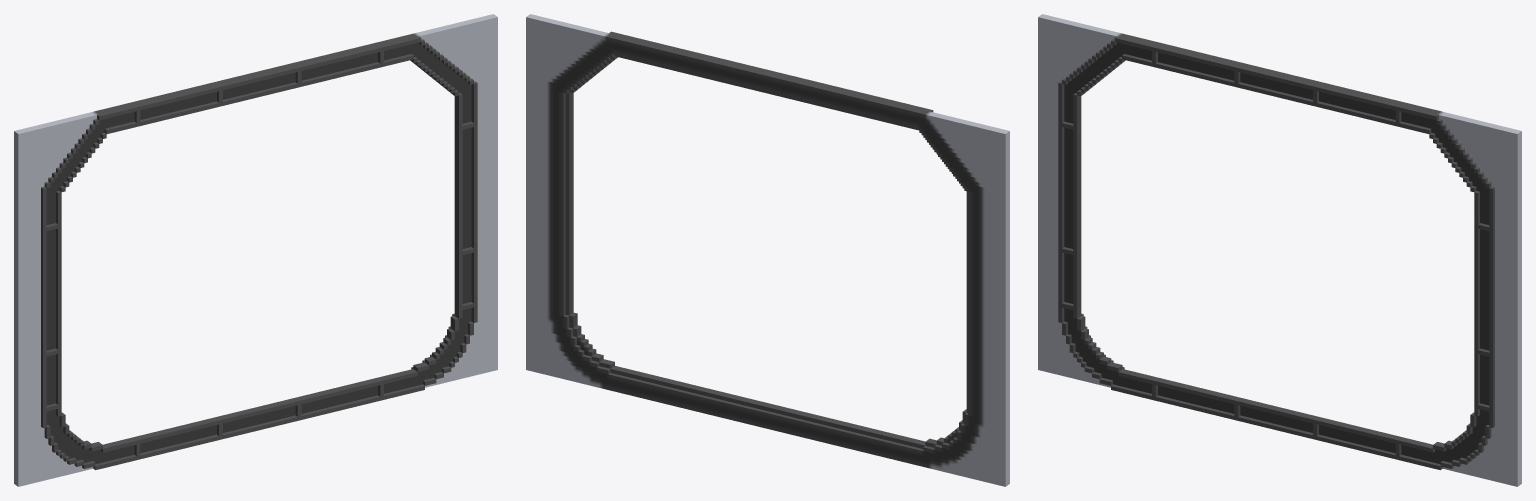
The model's file is DoorFrame_Mixed.obj.
The picture shows the model from 3 angles, left to right: view 1: azimuth 30°, elevation 25°; view 2: azimuth 150°, elevation 25°; view 3: azimuth 330°, elevation 25°; orthographic projection.
Visible parts, largest first — view 1: DoorFrame_Mixed; view 2: DoorFrame_Mixed; view 3: DoorFrame_Mixed.
Boxes of the visible parts, left/top/right/bottom form: DoorFrame_Mixed: left=14, top=14, right=497, bottom=486; DoorFrame_Mixed: left=526, top=14, right=1009, bottom=486; DoorFrame_Mixed: left=1038, top=14, right=1521, bottom=486.
Size of the model in its own units: 128 by 90 by 3.
Materials: 1 (1 with a texture image).
